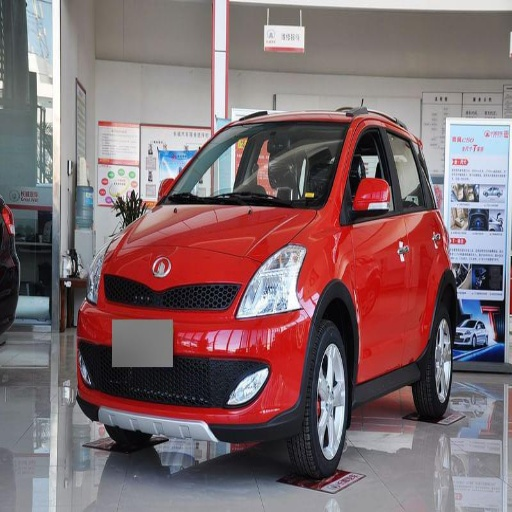back_left_door: (382, 122, 437, 359)
front_bumper: (79, 282, 313, 445)
front_glass: (160, 121, 347, 209)
front_left_door: (345, 119, 410, 381)
trunk: (100, 254, 180, 356)
